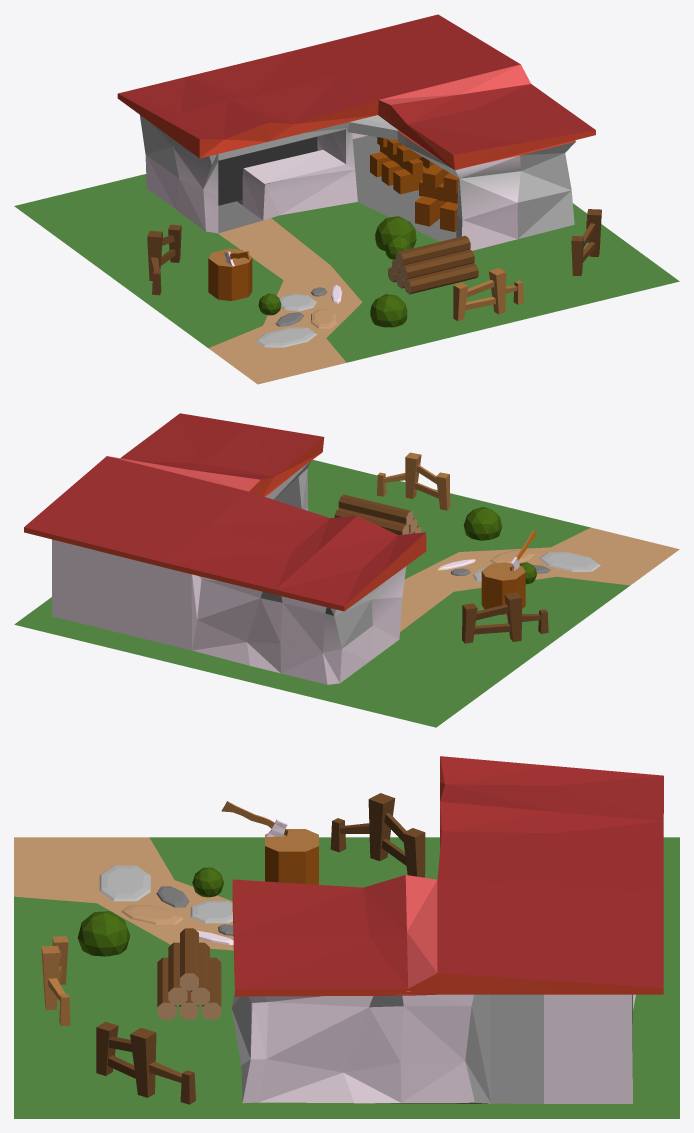
Rendered from Lumber[2].fbx.
The picture shows the model from 3 angles, top to bottom: view 1: azimuth 30°, elevation 25°; view 2: azimuth 150°, elevation 25°; view 3: azimuth 270°, elevation 25°; orthographic projection. The views are drawn at different scales.
Parts seen in each view (by area): view 1: Cube; view 2: Cube; view 3: Cube.
Boxes of the visible parts, x1,y1,x2,y2 form: Cube: [14, 14, 679, 384]; Cube: [14, 413, 679, 727]; Cube: [14, 756, 679, 1118].
Bounding box in the file's own units: 837 × 226 × 837.
